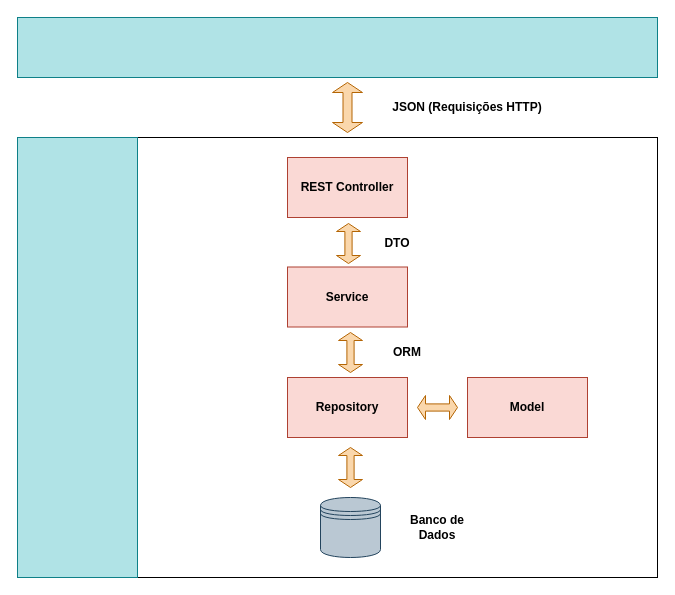
Some shapes in this 675 by 595 pixel diagram are drawn without their labels. Each missing label, with the centre of its shape:
"Backend" belongs at point (77, 357).
"Frontend" belongs at point (337, 47).
